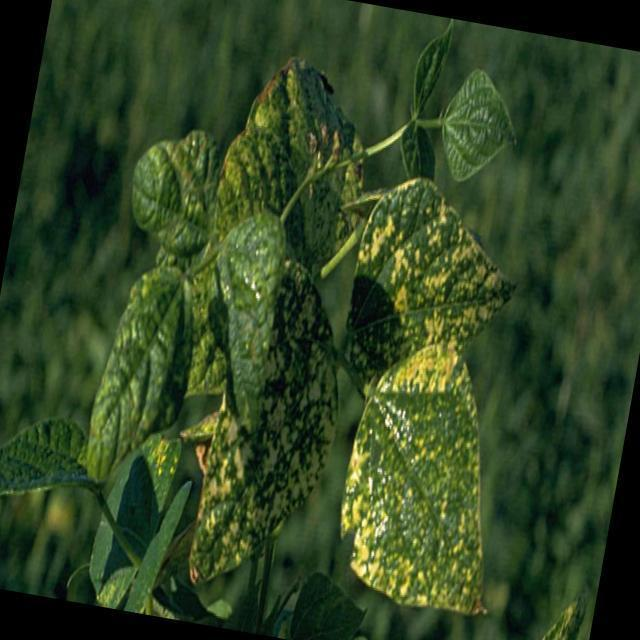Mosaic Virus: (170, 218, 356, 554), (334, 357, 522, 608), (82, 238, 210, 488), (346, 180, 506, 368), (216, 66, 378, 248)
